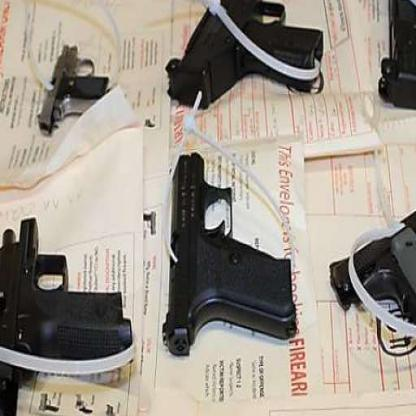gun: (157, 142, 296, 361), (0, 202, 140, 415), (162, 0, 334, 123), (322, 177, 415, 351), (23, 32, 115, 134)
